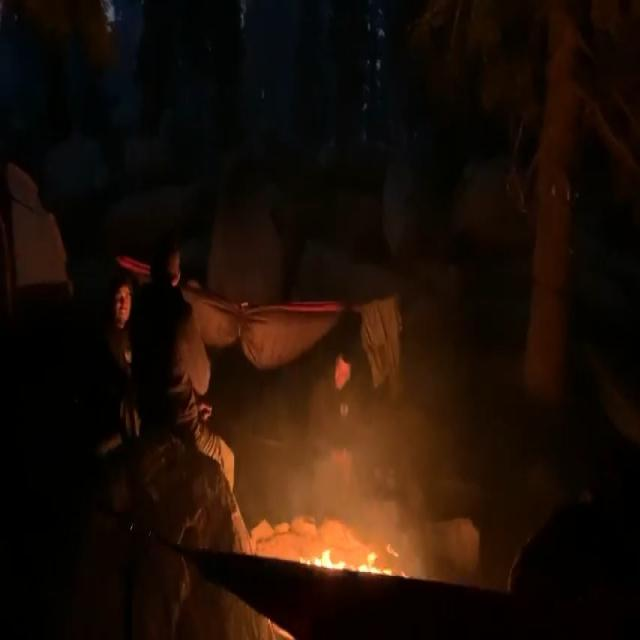Fire: (286, 542, 395, 576)
